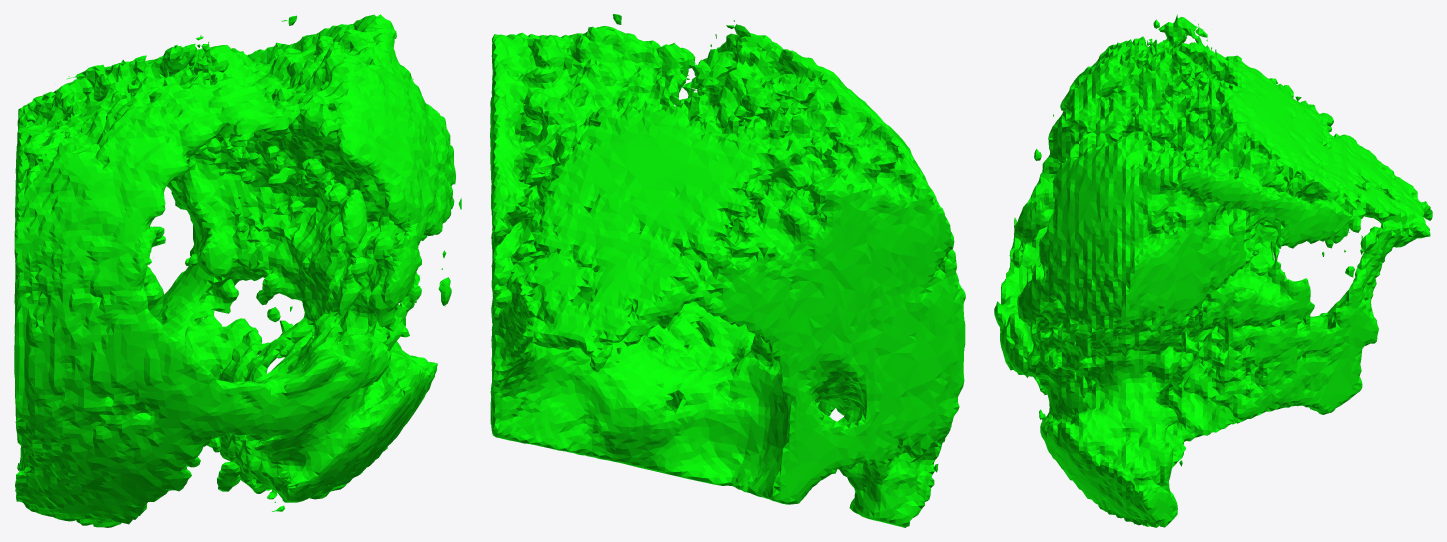
The model's file is B939XXXX-1_base_8.obj.
3 views of the same model, side by side, from view 1: azimuth 30°, elevation 25°; view 2: azimuth 150°, elevation 25°; view 3: azimuth 270°, elevation 25° (orthographic). The views are drawn at different scales.
Parts seen in each view (by area): view 1: 8_base; view 2: 8_base; view 3: 8_base.
Boxes of the visible parts, <box> form: 8_base: <box>14,14,461,527</box>; 8_base: <box>490,14,965,527</box>; 8_base: <box>994,14,1432,527</box>.
Size of the model in its own units: 219 by 219 by 205.
